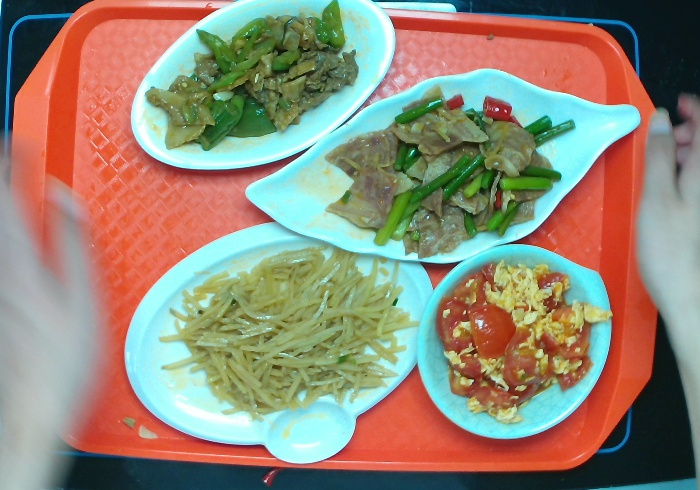RJxy-Bai_Se_Tuo_Yuan: (129, 1, 413, 180)
RJxy-Shu_Ye_Pan: (247, 72, 659, 265)
RJxy-Xiao_Jiao_Yuan_Wan: (413, 238, 612, 440)
RJxy-Zhan_Liao_Pan: (122, 210, 429, 456)
